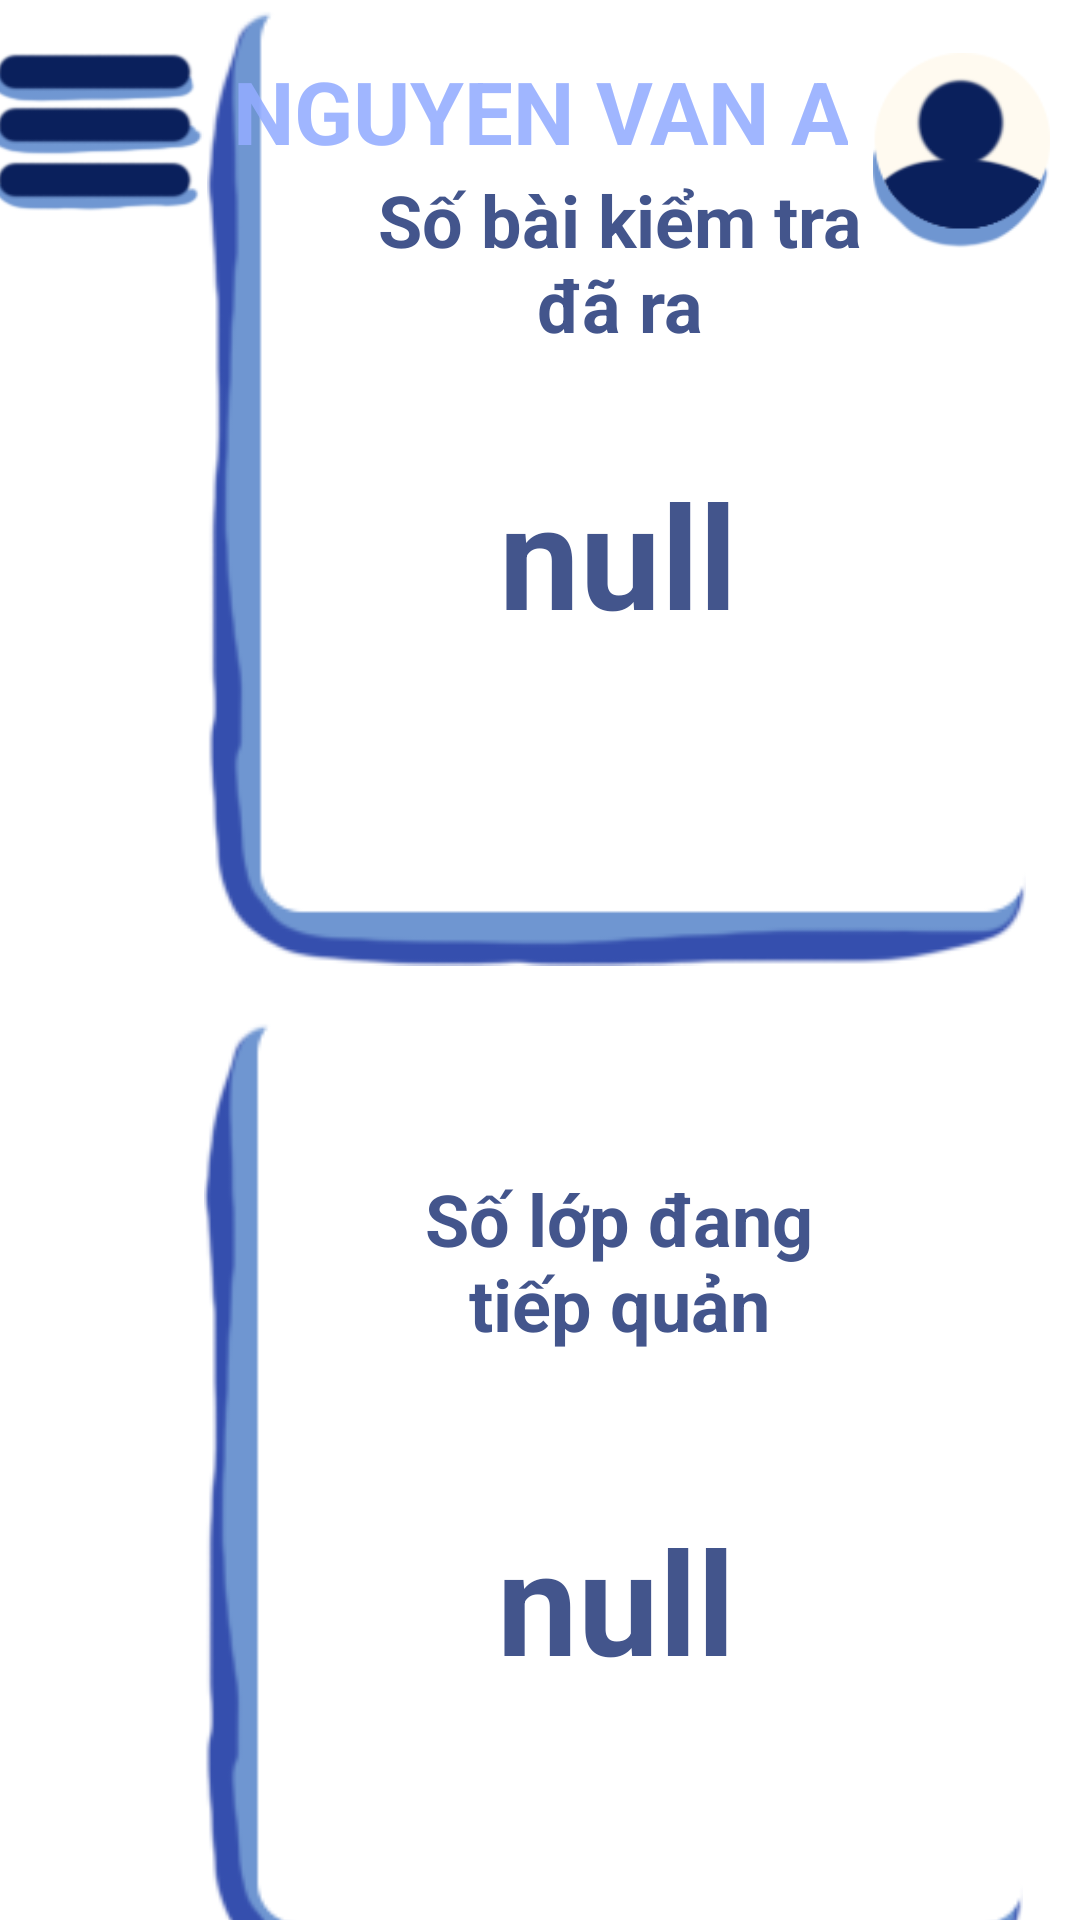

Point at icon controls on the screen. Image size 1080×1920, points as [x,y].
menu: [101,132]
user: [960,162]
